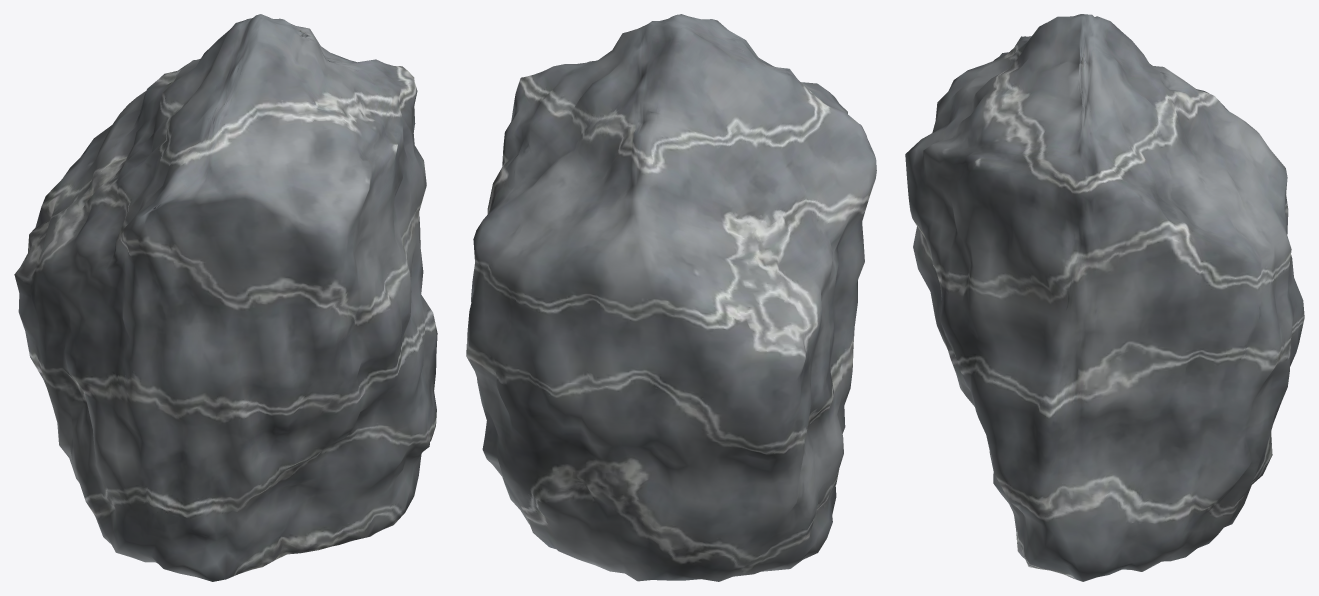
The model's file is stone_b.glb.
3 views of the same model, side by side, from view 1: azimuth 30°, elevation 25°; view 2: azimuth 150°, elevation 25°; view 3: azimuth 270°, elevation 25° (orthographic).
Parts seen in each view (by area): view 1: stone_b; view 2: stone_b; view 3: stone_b.
Part boxes in pixels (x1,y1,x2,y2): stone_b: (14,14,437,581); stone_b: (466,14,876,581); stone_b: (905,14,1304,581).
Bounding box in the file's own units: 11.44 × 16.62 × 11.72.
Materials: 1 (1 with a texture image).
